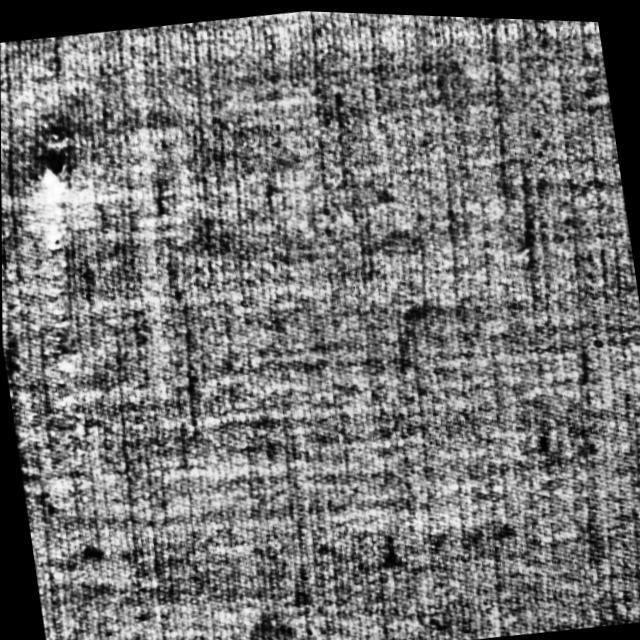Stitch: (0, 115, 137, 437)
